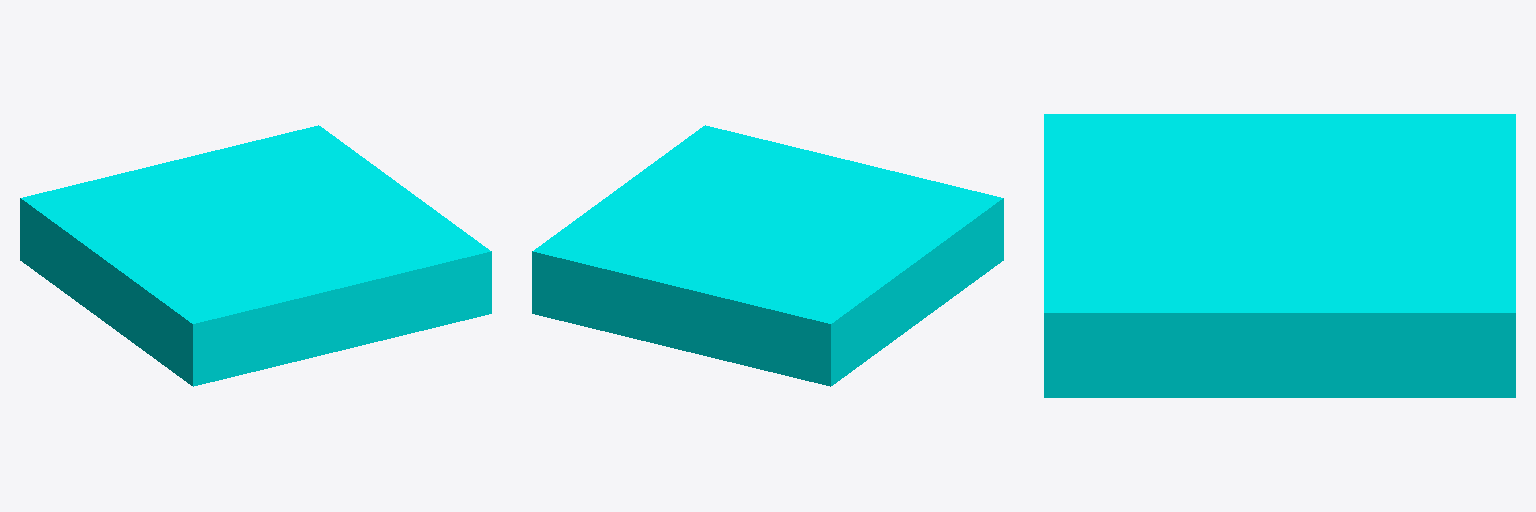
The robot description file, URDF, robot "drone":
<?xml version="1.0"?>
<robot name="drone">
  <!-- Define the root link -->
  <link name="base_link">
    <visual>
      <geometry>
        <box size="0.5 0.5 0.1"/>
      </geometry>
      <material name="Cyan"/>
    </visual>
  </link>
  
  <!-- Material definition -->
  <material name="Cyan">
    <color rgba="0 1.0 1.0 1.0"/>
  </material>
</robot>

--- Render facts (derived) ---
3 views of the same robot in one strip: view 1: azimuth 30°, elevation 25°; view 2: azimuth 150°, elevation 25°; view 3: azimuth 270°, elevation 25° (orthographic).
Model drone with 1 links and 0 joints (none), rooted at base_link, posed all joints at 0.
Links seen in each view (by area): view 1: base_link; view 2: base_link; view 3: base_link.
Boxes of the visible links, box(x1,y1,x2,y2) form: base_link: box(20, 125, 491, 386); base_link: box(532, 125, 1003, 386); base_link: box(1044, 114, 1515, 397).
Bounding box of the posed robot: 0.5 × 0.5 × 0.1 m (x, y, z).
Geometry: primitives only (box / cylinder / sphere), no mesh files.